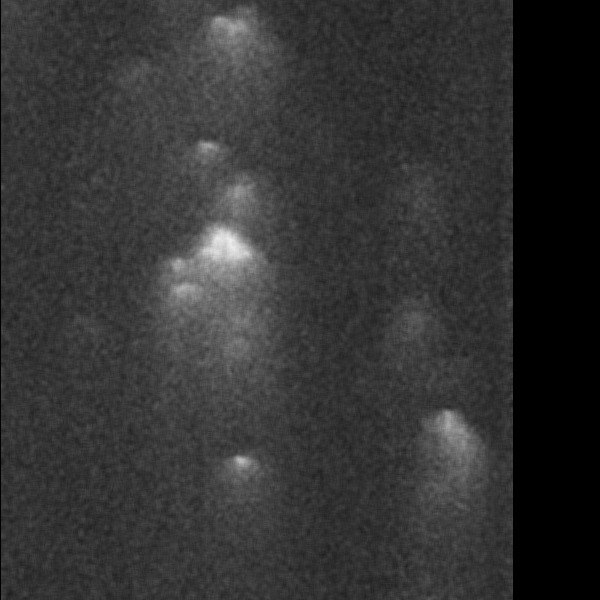spark: (1, 211, 44, 246), (463, 577, 499, 600)
